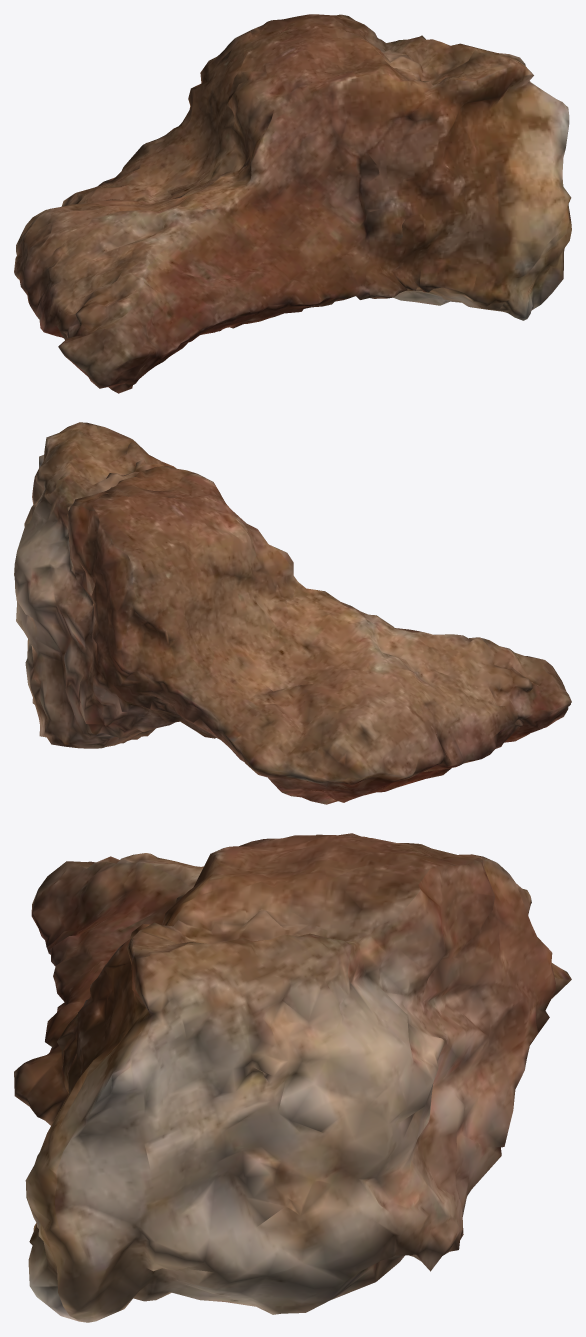
File: stone_01.glb
3 views of the same model, one above another, from view 1: azimuth 30°, elevation 25°; view 2: azimuth 150°, elevation 25°; view 3: azimuth 270°, elevation 25° (orthographic). The views are drawn at different scales.
Parts seen in each view (by area): view 1: stone_01; view 2: stone_01; view 3: stone_01.
Boxes of the visible parts, bbox=[...] form: stone_01: bbox=[14, 14, 571, 393]; stone_01: bbox=[14, 422, 571, 804]; stone_01: bbox=[14, 833, 571, 1322].
Size of the model in its own units: 0.1469 by 0.0718 by 0.089.
Materials: 1 (1 with a texture image).
